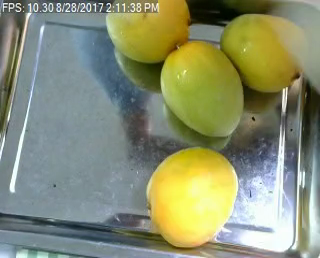Mango: (147, 146, 237, 245), (161, 40, 244, 136), (221, 14, 309, 93), (107, 1, 190, 62)
